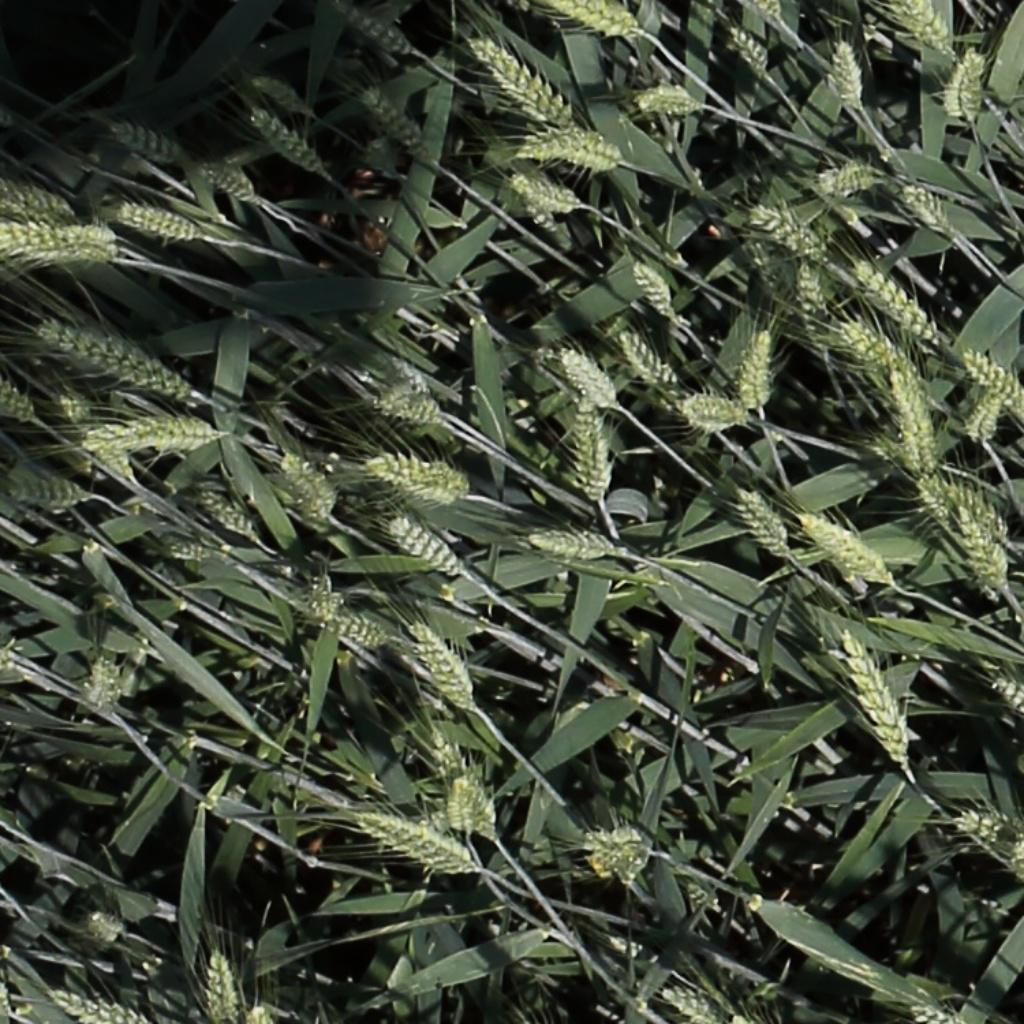0-0: (38, 365, 147, 481), (38, 322, 196, 398), (836, 623, 912, 772), (85, 401, 239, 463), (354, 816, 491, 882), (424, 733, 499, 852), (472, 39, 572, 126), (850, 256, 944, 346), (361, 442, 484, 509), (404, 615, 479, 718), (909, 467, 1011, 536), (797, 513, 890, 587), (839, 320, 927, 391), (505, 125, 634, 172), (385, 516, 475, 582), (953, 502, 1013, 601), (356, 83, 432, 161), (887, 365, 937, 473), (244, 105, 322, 173), (958, 346, 1024, 425), (0, 229, 121, 272), (539, 0, 647, 47), (573, 389, 619, 498), (46, 981, 160, 1024), (274, 449, 340, 523), (582, 815, 654, 882), (746, 202, 827, 260), (376, 338, 441, 409), (731, 486, 791, 562), (113, 202, 215, 246), (679, 378, 752, 438), (554, 345, 619, 412), (615, 326, 679, 394), (0, 216, 127, 250), (193, 490, 268, 547), (954, 800, 1024, 860), (203, 940, 252, 1024), (505, 174, 592, 221), (333, 2, 409, 55), (0, 178, 82, 226), (939, 46, 984, 133), (105, 121, 199, 162), (892, 0, 955, 60), (625, 253, 678, 323), (314, 604, 398, 648), (247, 72, 319, 121), (0, 476, 101, 510), (898, 178, 957, 236), (719, 19, 772, 83), (304, 565, 346, 642), (794, 252, 827, 346), (443, 771, 484, 846), (828, 32, 864, 116), (740, 322, 772, 416), (966, 375, 1006, 450), (815, 159, 888, 199), (630, 86, 711, 120), (526, 531, 618, 558), (196, 159, 256, 199), (371, 389, 439, 423), (989, 673, 1024, 734), (659, 987, 715, 1022), (83, 907, 132, 946), (86, 651, 114, 718), (909, 998, 969, 1024), (0, 379, 35, 421), (750, 0, 786, 28)
